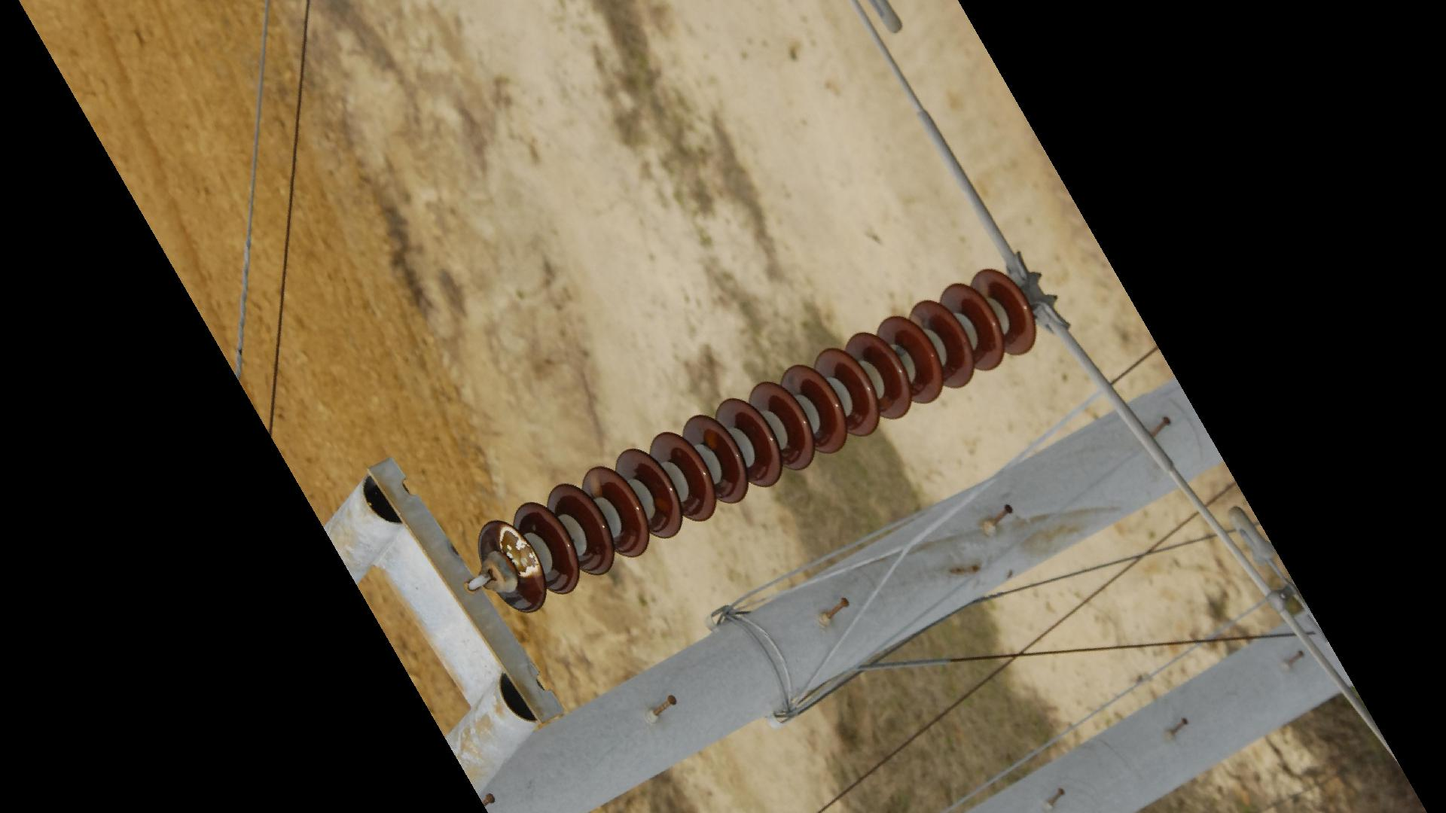insulator: (474, 263, 1043, 620)
insulator_flashover: (496, 522, 543, 580), (585, 466, 604, 501)
